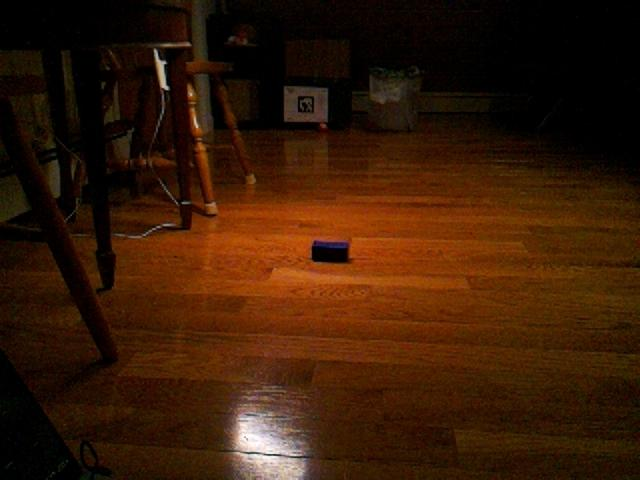blue: (310, 238, 351, 264)
